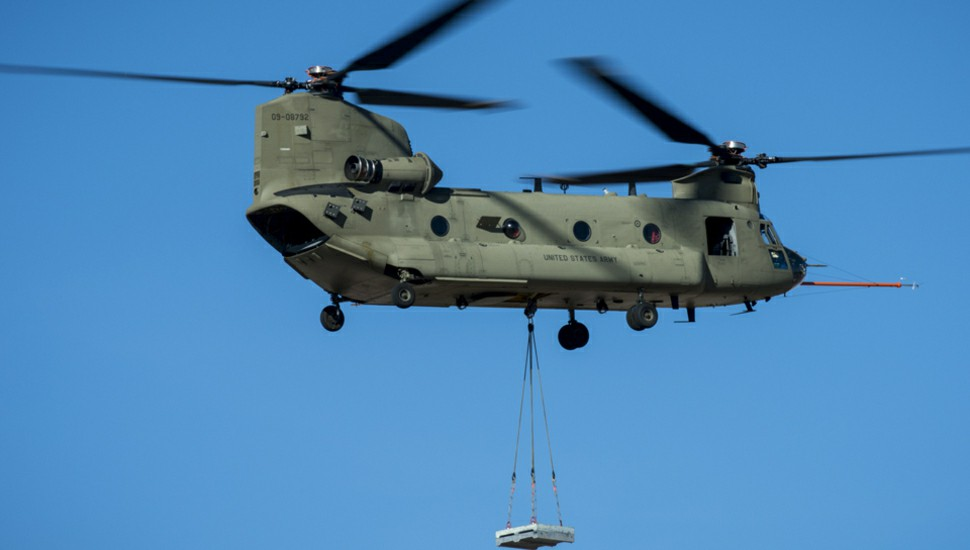chinook: (236, 27, 923, 364)
